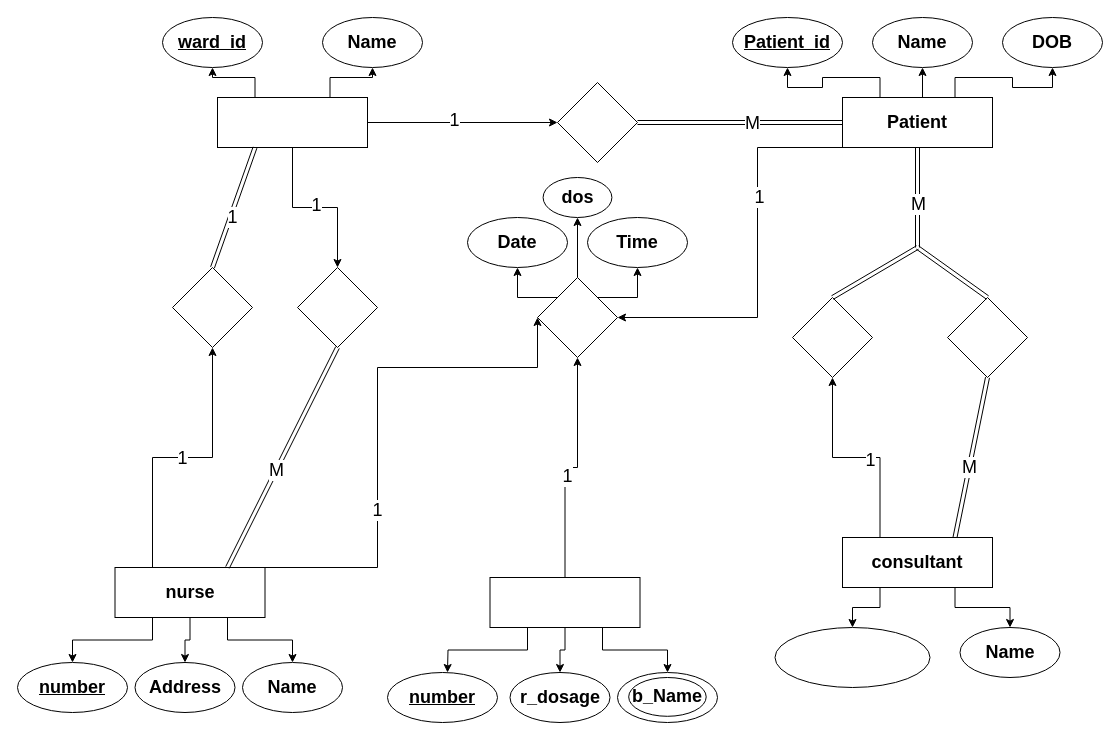
Some shapes in this 1120 by 740 pixel diagram are drawn without their labels. Here are the shapes that lost their labels. From the top down, the box of each, then its label:
(216, 96, 368, 148): Ward
(556, 82, 638, 162): host
(172, 266, 252, 348): supervise
(296, 266, 378, 348): assigned
(536, 276, 618, 358): give
(792, 296, 872, 378): assign
(946, 296, 1028, 378): examine
(489, 576, 640, 628): drug
(774, 626, 930, 688): Consultant_id
